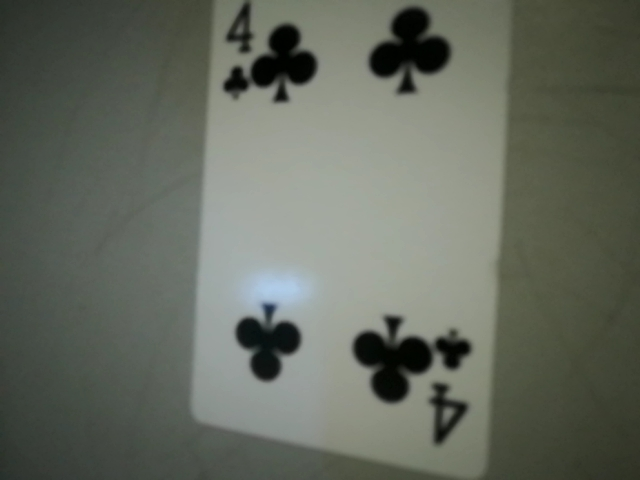mh 4: (411, 318, 484, 465)
